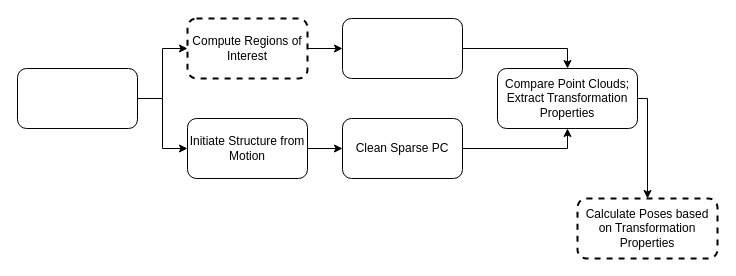
Some shapes in this 736 by 276 pixel diagram are drawn without their labels. Each missing label, with the centre of its shape:
Capture Reference Images: the point at 77,98
Compute RGBD-PC: the point at 402,48
